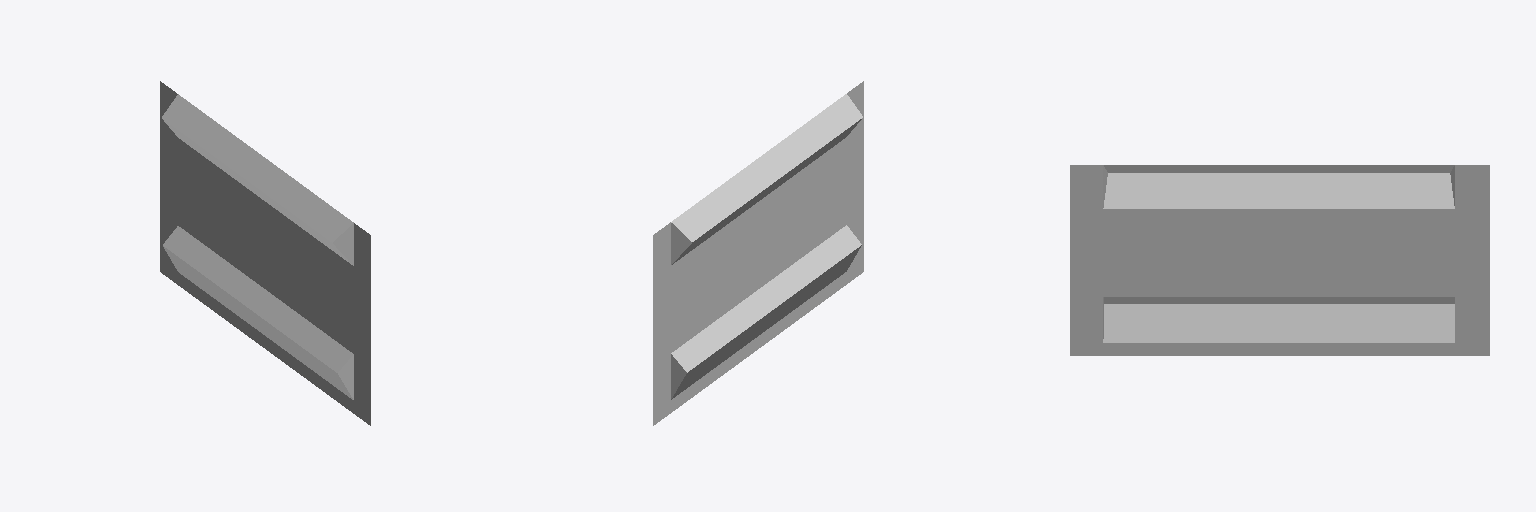
Rendered from low_polly.obj.
The picture shows the model from 3 angles: view 1: azimuth 30°, elevation 25°; view 2: azimuth 150°, elevation 25°; view 3: azimuth 270°, elevation 25°; orthographic projection.
Parts seen in each view (by area): view 1: pPlane12; view 2: pPlane12; view 3: pPlane12.
Part boxes in pixels (left/top/right/bottom): pPlane12: left=160, top=81, right=370, bottom=425; pPlane12: left=653, top=81, right=863, bottom=425; pPlane12: left=1070, top=165, right=1489, bottom=355.
Bounding box in the file's own units: 50.11 × 478 × 953.